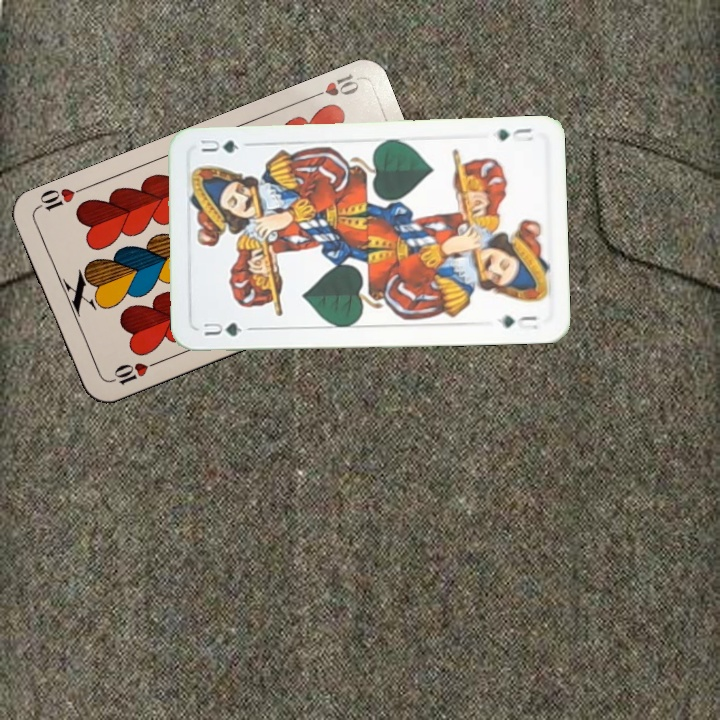GU: (199, 318, 245, 339), (492, 124, 536, 145)
H10: (304, 70, 362, 102), (104, 357, 161, 388)
